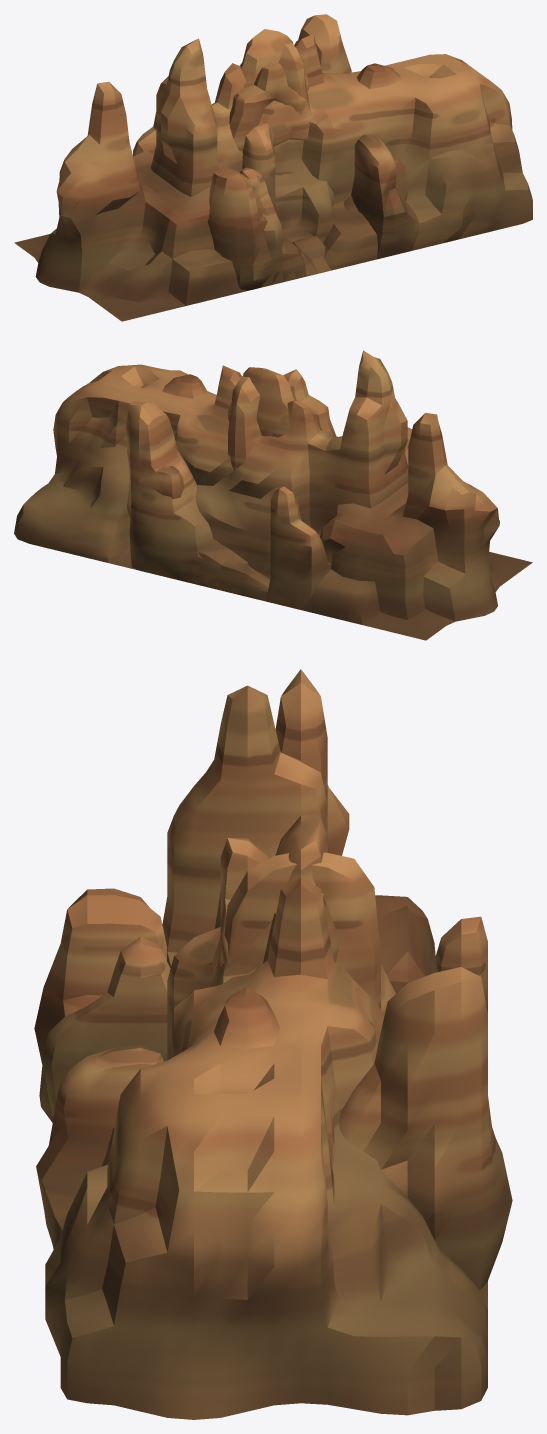
Rendered from edited_rocks_001.fbx.
3 renders of one model, top to bottom at view 1: azimuth 30°, elevation 25°; view 2: azimuth 150°, elevation 25°; view 3: azimuth 270°, elevation 25°, orthographic. The views are drawn at different scales.
Parts seen in each view (by area): view 1: Mountain_desert_008, Mountain_desert_005, Mountain_desert_006, Mountain_desert_009, Mountain_desert_010; view 2: Mountain_desert_008, Mountain_desert_006, Mountain_desert_005, Mountain_desert_010, Mountain_desert_009; view 3: Mountain_desert_008, Mountain_desert_006, Mountain_desert_005, Mountain_desert_010, Mountain_desert_009.
Boxes of the visible parts, <box> form: Mountain_desert_008: <box>14,34,532,321</box>; Mountain_desert_005: <box>133,42,418,287</box>; Mountain_desert_006: <box>207,14,351,290</box>; Mountain_desert_009: <box>229,62,335,281</box>; Mountain_desert_010: <box>240,29,315,209</box>; Mountain_desert_008: <box>14,350,532,640</box>; Mountain_desert_006: <box>126,401,412,601</box>; Mountain_desert_005: <box>139,375,331,609</box>; Mountain_desert_010: <box>128,367,294,568</box>; Mountain_desert_009: <box>253,369,336,569</box>; Mountain_desert_008: <box>45,669,487,1419</box>; Mountain_desert_006: <box>34,888,512,1289</box>; Mountain_desert_005: <box>36,852,487,1249</box>; Mountain_desert_010: <box>167,815,339,1048</box>; Mountain_desert_009: <box>220,838,487,1291</box>.
Size of the model in its own units: 5606 by 2588 by 2574.
